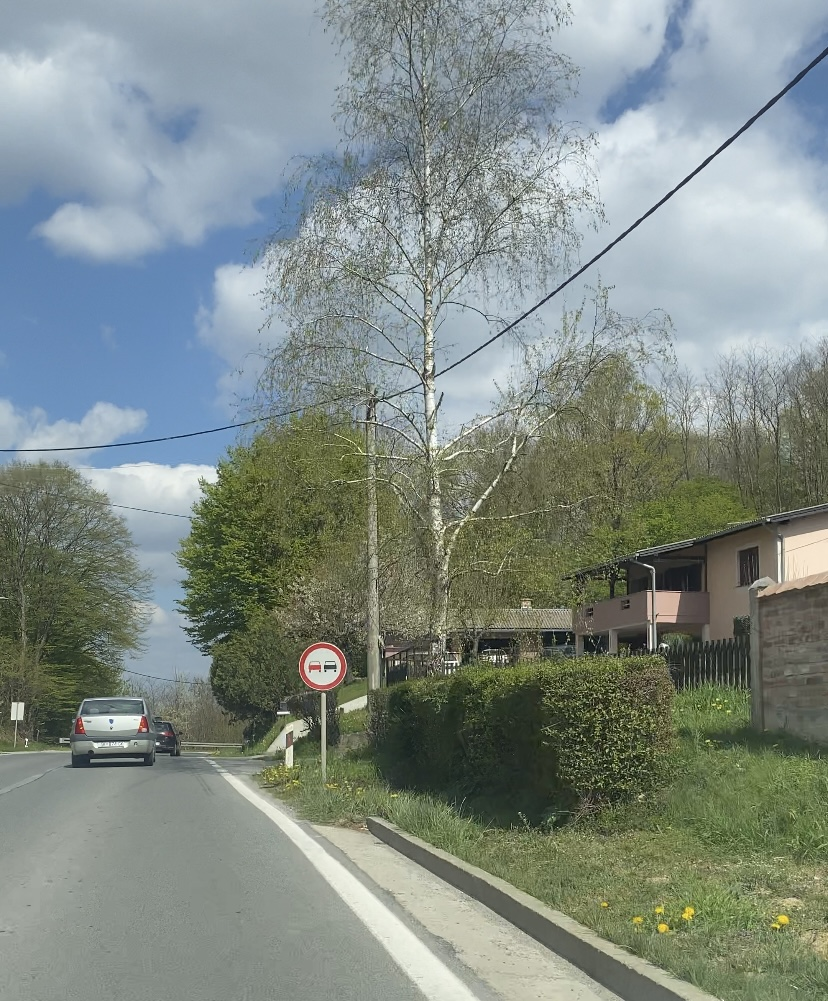Zabrana pretjecanja: (298, 642, 347, 692)
